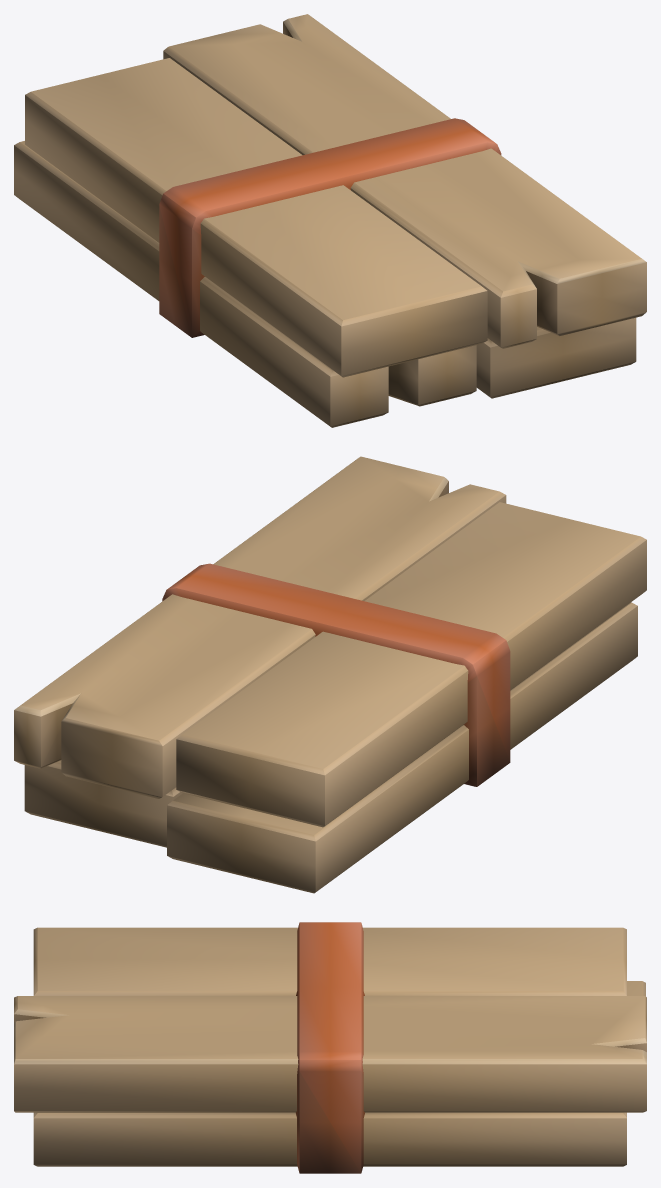
Rendered from prop_planks_stack.glb.
3 renders of one model, top to bottom at view 1: azimuth 30°, elevation 25°; view 2: azimuth 150°, elevation 25°; view 3: azimuth 270°, elevation 25°, orthographic. The views are drawn at different scales.
Visible parts, largest first — view 1: refined; view 2: refined; view 3: refined.
Boxes of the visible parts, x1,y1,x2,y2 form: refined: (14, 14, 646, 427); refined: (14, 456, 646, 893); refined: (14, 922, 646, 1173).
Bounding box in the file's own units: 0.8461 × 0.3232 × 1.6.
